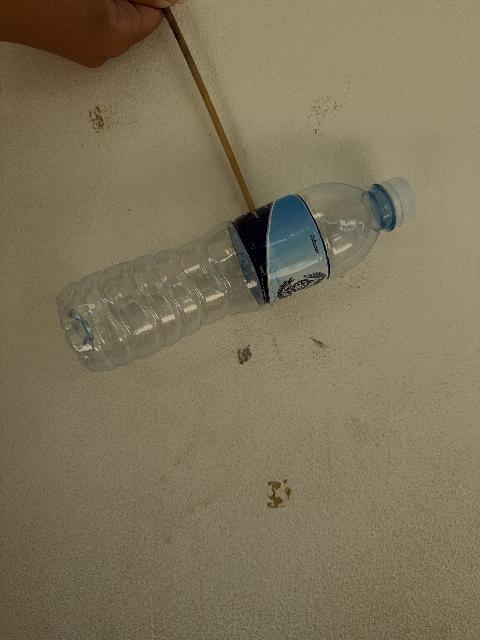bottle: (57, 178, 417, 371)
